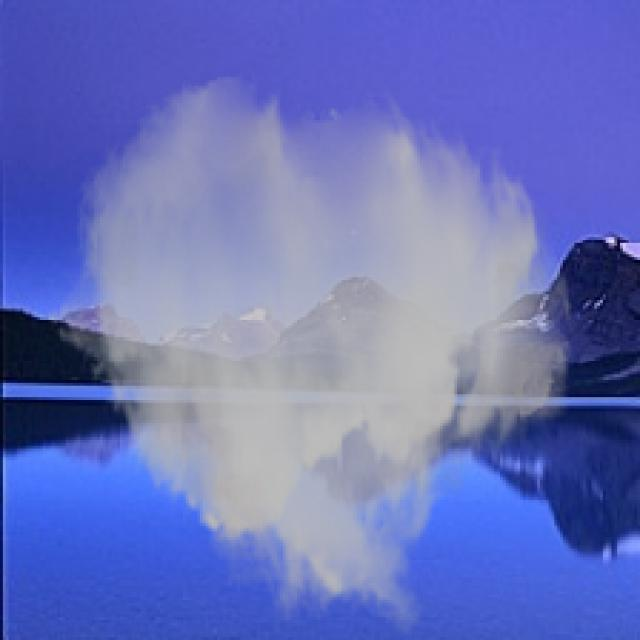Smoke: (45, 72, 578, 638)
